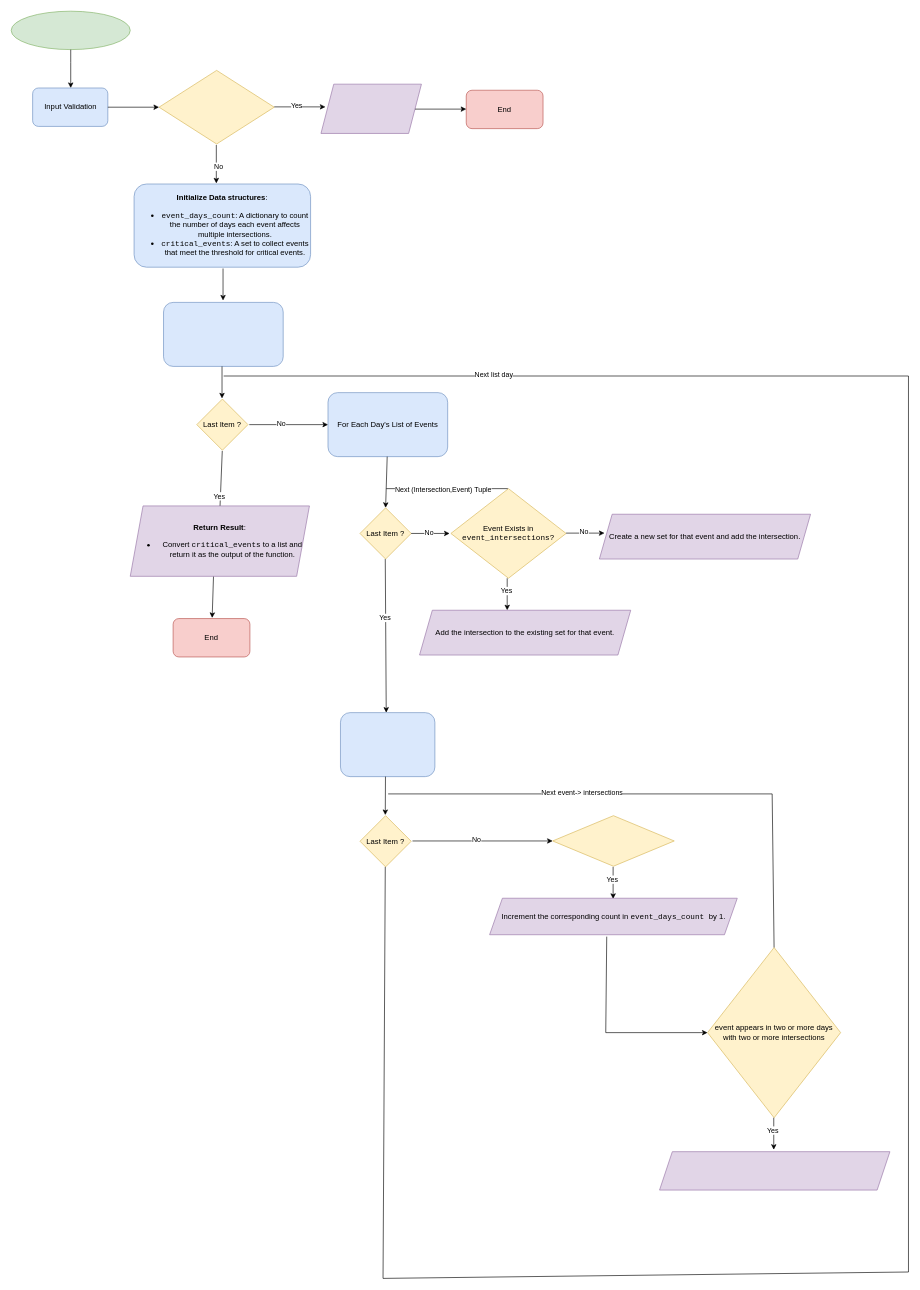
This 920x1290 diagram has some shape labels left out. The shapes that lost their labels are listed below. From the top down, each one's box as (x1, y1, x2, y2) in pixels, then its label:
(11, 11, 130, 50): Start
(158, 70, 274, 144): days_list is invalid ?
(320, 84, 421, 133): Return an empty list
(163, 302, 283, 366): For each day in days_list
(340, 712, 435, 777): For Each Event in event_intersections
(552, 815, 674, 866): Count of intersctions ≥ 2
(659, 1151, 890, 1190): add it to the critical_events set.
